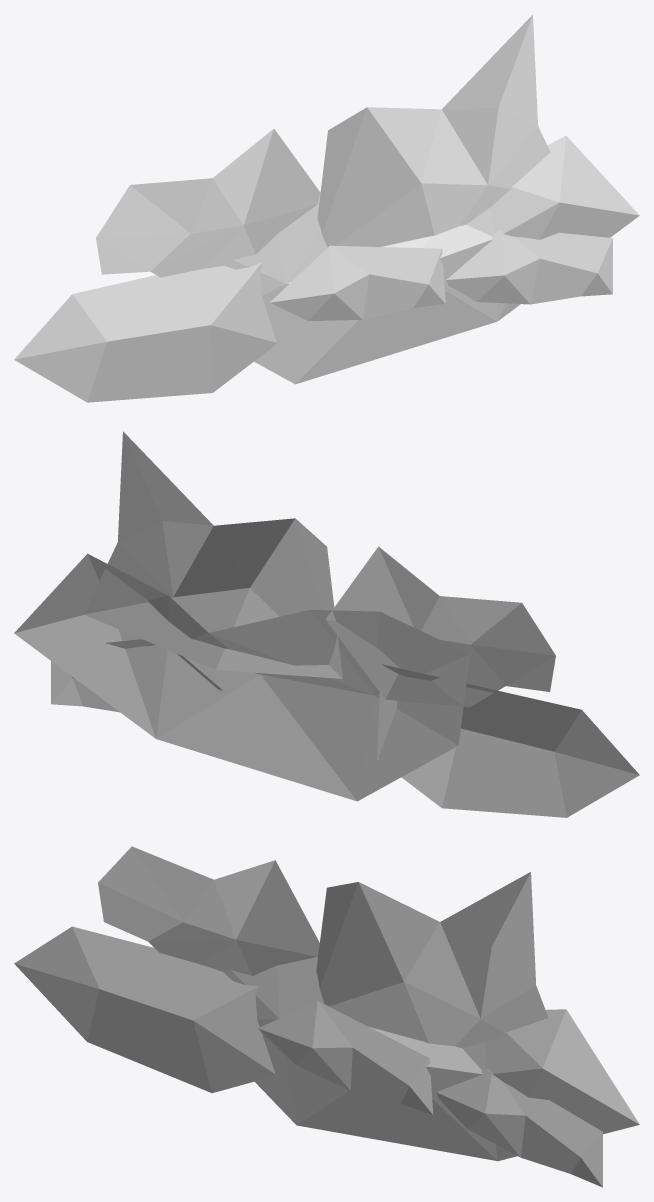
File: SM_Env_Ivy_11.glb
3 renders of one model, top to bottom at view 1: azimuth 30°, elevation 25°; view 2: azimuth 150°, elevation 25°; view 3: azimuth 330°, elevation 25°, orthographic.
Visible parts, largest first — view 1: SM_Env_Ivy_11; view 2: SM_Env_Ivy_11; view 3: SM_Env_Ivy_11.
Part boxes in pixels (x1,y1,x2,y2): SM_Env_Ivy_11: (14, 14, 639, 402); SM_Env_Ivy_11: (14, 431, 639, 817); SM_Env_Ivy_11: (14, 846, 639, 1187).
Size of the model in its own units: 2.97 by 1.42 by 0.0944.
1 material, 1 textured.
